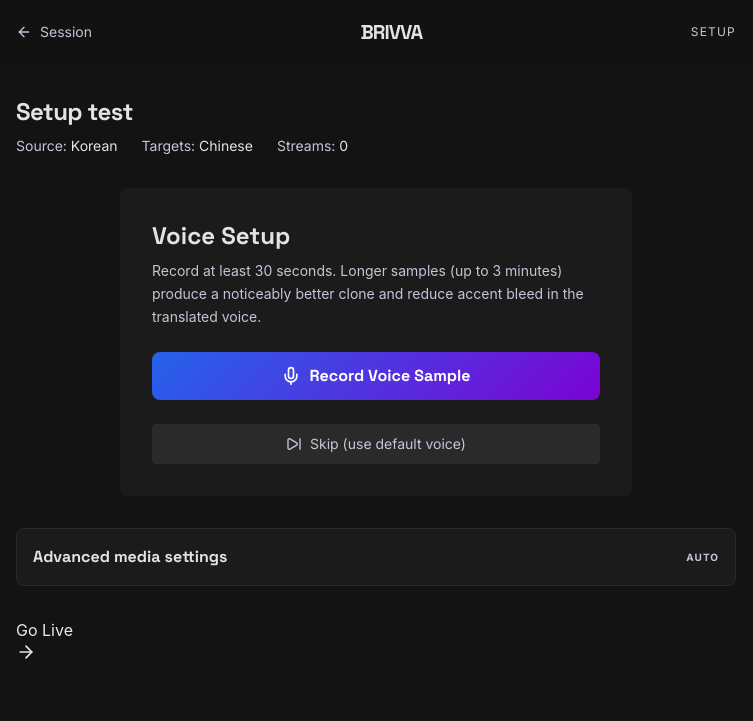
Test case: SessionSetupPage › no voice yet: Skip → Go Live unlocks (happy)
The image size is (753, 721).
Expected: the heading "Setup test" is shown, [16,96,133,127]
Expected: the button "Go Live" is disabled, [16,618,73,662]
Click the button "Skip (use default voice)". click: (376, 444)
box: [152,424,600,464]
(page scrolled)
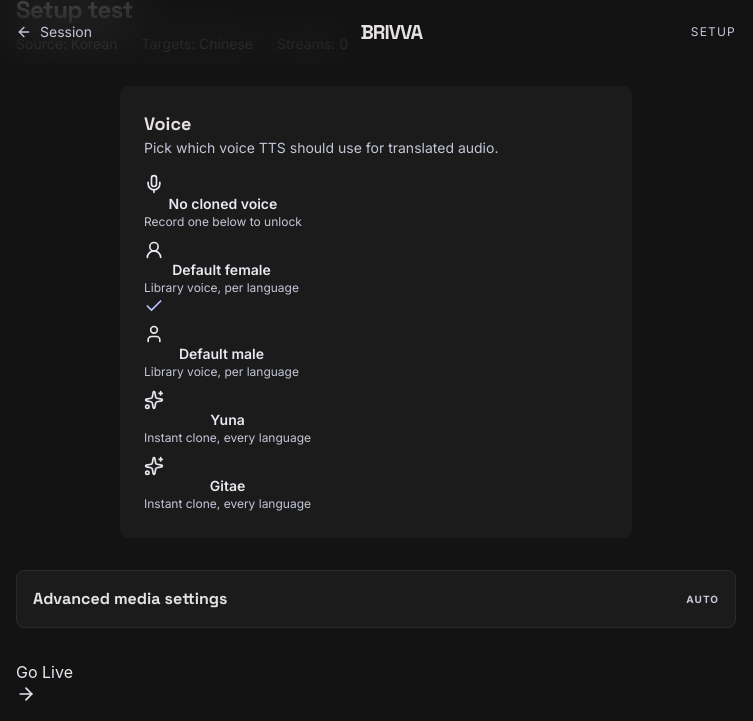
Now the button "Go Live" is enabled, box [16,660,73,704]
